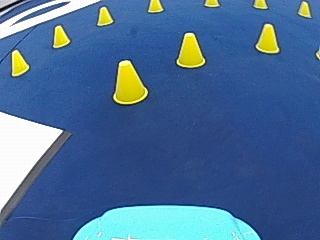cone: (112, 58, 147, 103), (175, 31, 206, 67), (254, 22, 279, 53), (9, 49, 29, 75), (51, 24, 70, 47), (96, 5, 113, 26), (297, 1, 311, 17), (147, 0, 163, 12), (253, 0, 267, 9), (205, 0, 218, 7)
